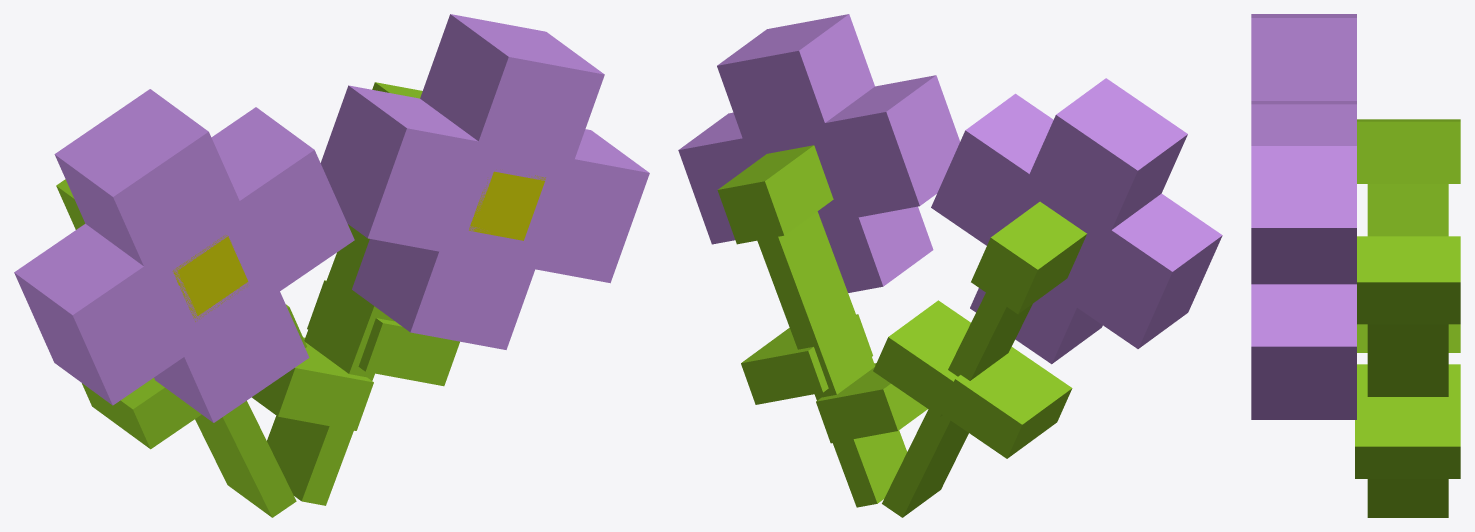
The model's file is Purple Flowers.fbx.
The picture shows the model from 3 angles, left to right: view 1: azimuth 30°, elevation 25°; view 2: azimuth 150°, elevation 25°; view 3: azimuth 270°, elevation 25°; orthographic projection. The views are drawn at different scales.
Parts seen in each view (by area): view 1: polySurface10; view 2: polySurface10; view 3: polySurface10.
Boxes of the visible parts, left/top/right/bottom form: polySurface10: left=14, top=14, right=649, bottom=517; polySurface10: left=678, top=14, right=1222, bottom=517; polySurface10: left=1251, top=14, right=1460, bottom=517.
Bounding box in the file's own units: 3.92 × 3.03 × 1.37.
